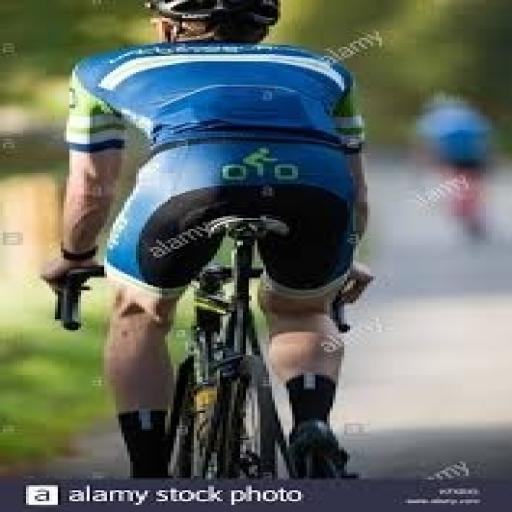cycling: (38, 0, 379, 480), (411, 87, 503, 245)
